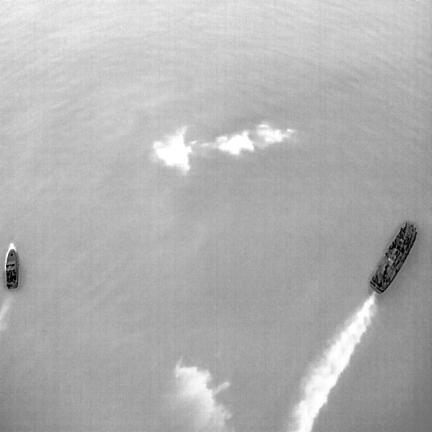flukeprints: (153, 127, 192, 172), (256, 123, 294, 145), (216, 131, 252, 154)
